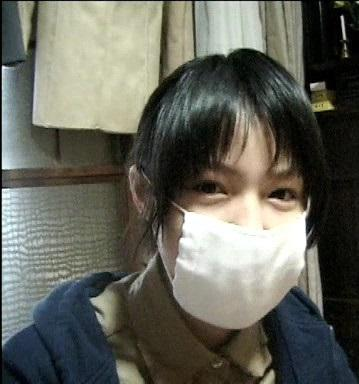WRONG: (160, 160, 309, 317)
